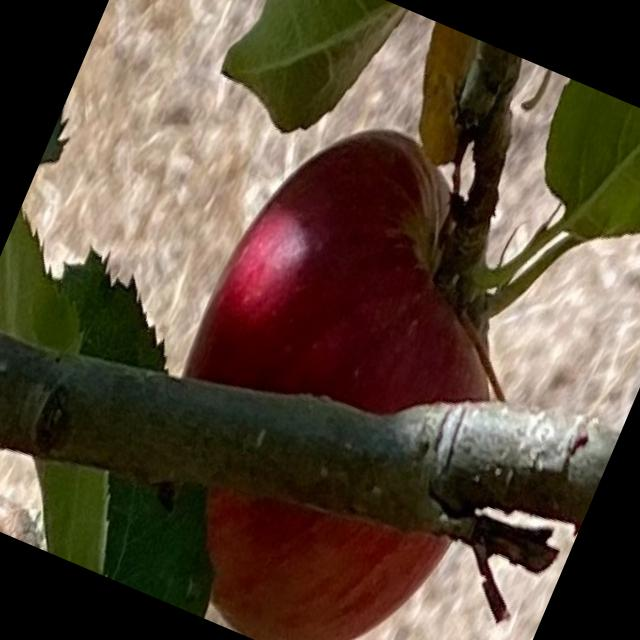Apples: (93, 88, 593, 639)
